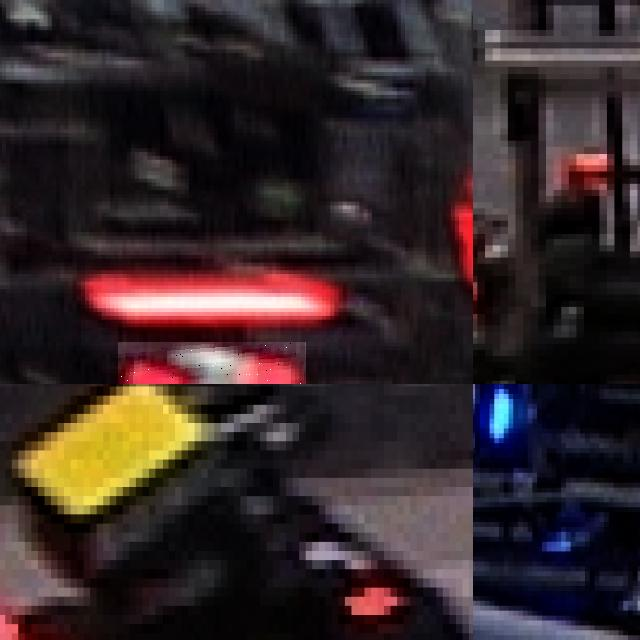B2: (473, 384, 513, 458)
R2: (118, 342, 305, 384)
